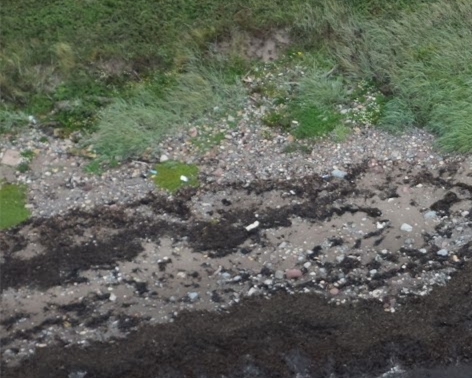white_in_green: (232, 208, 275, 246)
